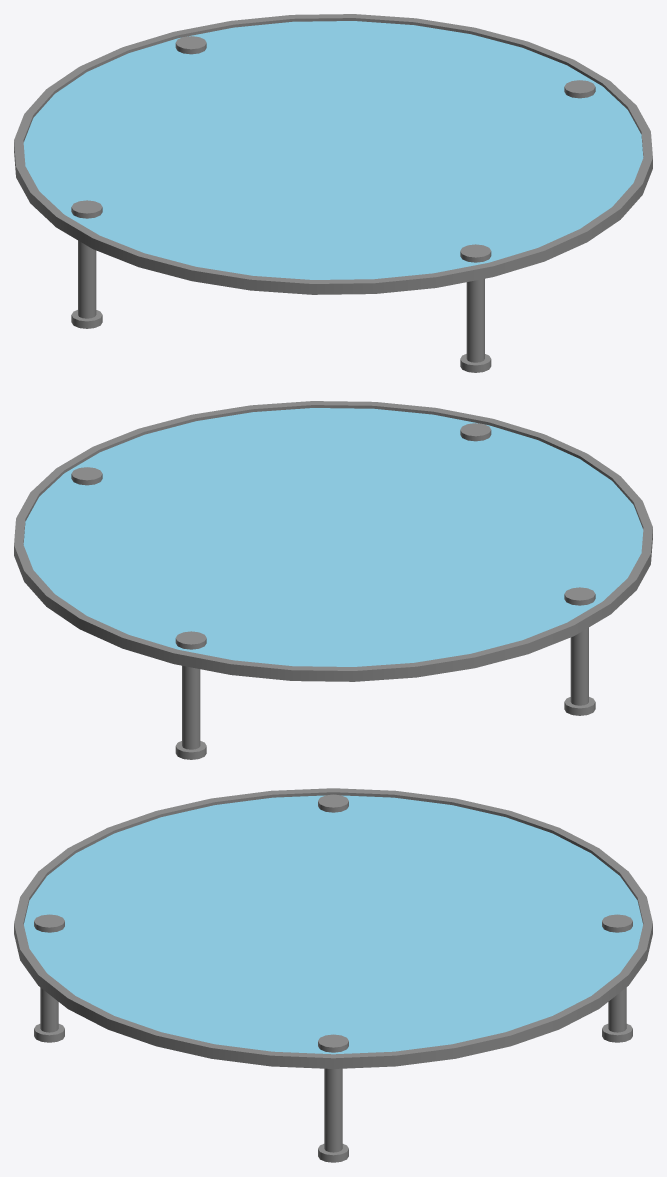
Rendered from Table_03.FBX.
3 renders of one model, top to bottom at view 1: azimuth 30°, elevation 25°; view 2: azimuth 150°, elevation 25°; view 3: azimuth 270°, elevation 25°, orthographic.
Parts seen in each view (by area): view 1: Table_03; view 2: Table_03; view 3: Table_03.
Boxes of the visible parts, x1,y1,x2,y2 form: Table_03: (14,14,652,372); Table_03: (14,401,652,759); Table_03: (14,788,652,1162).
Bounding box in the file's own units: 3.08 × 0.6124 × 3.08.
